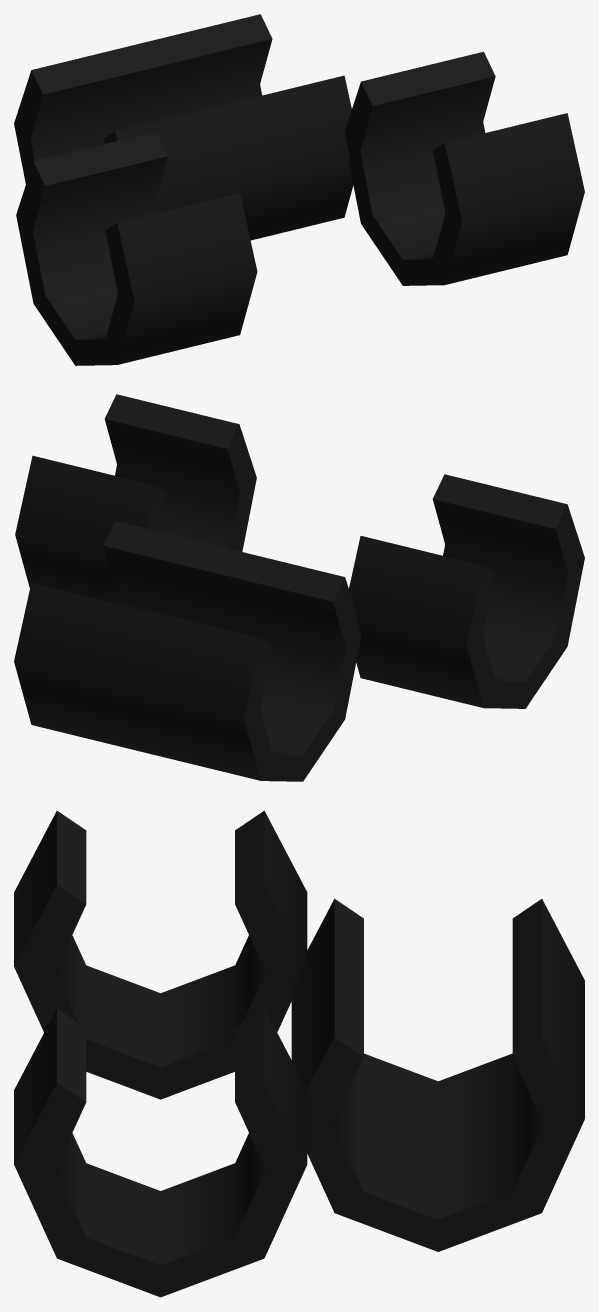
Rendered from BeltLink.glb.
3 views of the same model, one above another, from view 1: azimuth 30°, elevation 25°; view 2: azimuth 150°, elevation 25°; view 3: azimuth 270°, elevation 25° (orthographic). The views are drawn at different scales.
Visible parts, largest first — view 1: link; view 2: link; view 3: link.
Part boxes in pixels (box(x1,y1,x2,y2)): link: box(14, 14, 584, 365); link: box(14, 394, 584, 781); link: box(14, 810, 584, 1297).
Bounding box in the file's own units: 0.0536 × 0.0218 × 0.0476.
1 material, 1 textured.
